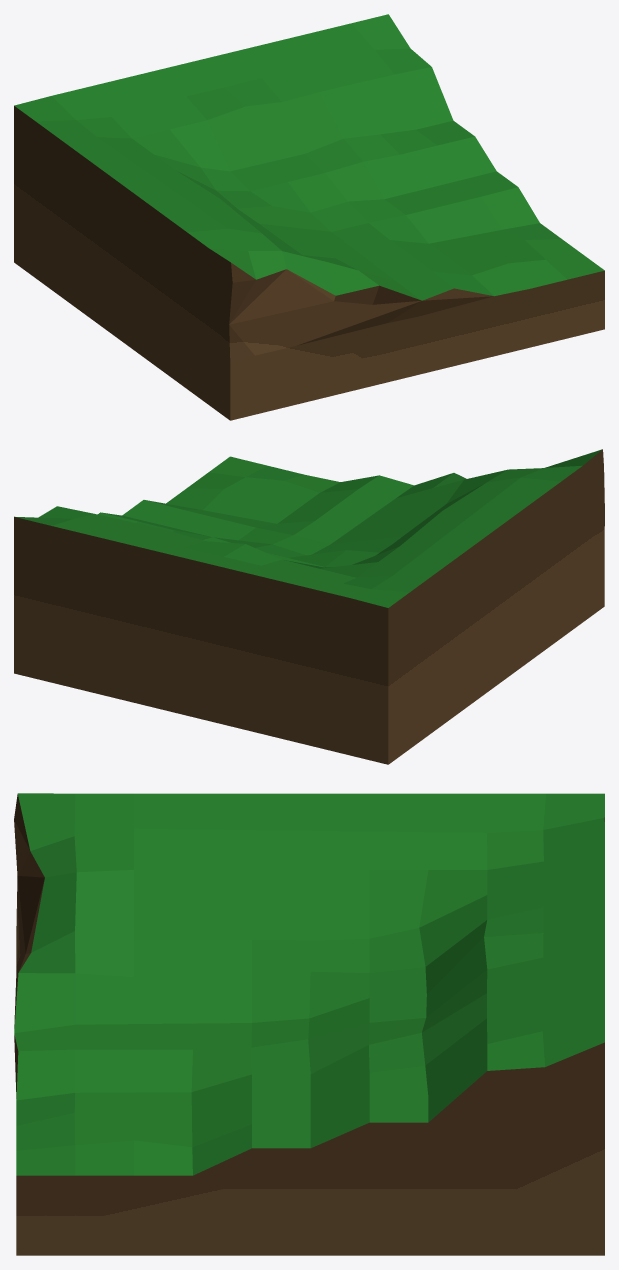
Rendered from Elev_PPE.fbx.
3 renders of one model, top to bottom at view 1: azimuth 30°, elevation 25°; view 2: azimuth 150°, elevation 25°; view 3: azimuth 270°, elevation 25°, orthographic. The views are drawn at different scales.
Visible parts, largest first — view 1: Elev_PPE; view 2: Elev_PPE; view 3: Elev_PPE.
Part boxes in pixels (<box>): Elev_PPE: <box>14,14,604,420</box>; Elev_PPE: <box>14,449,604,764</box>; Elev_PPE: <box>14,793,604,1255</box>.
Size of the model in its own units: 200 by 80.43 by 201.
